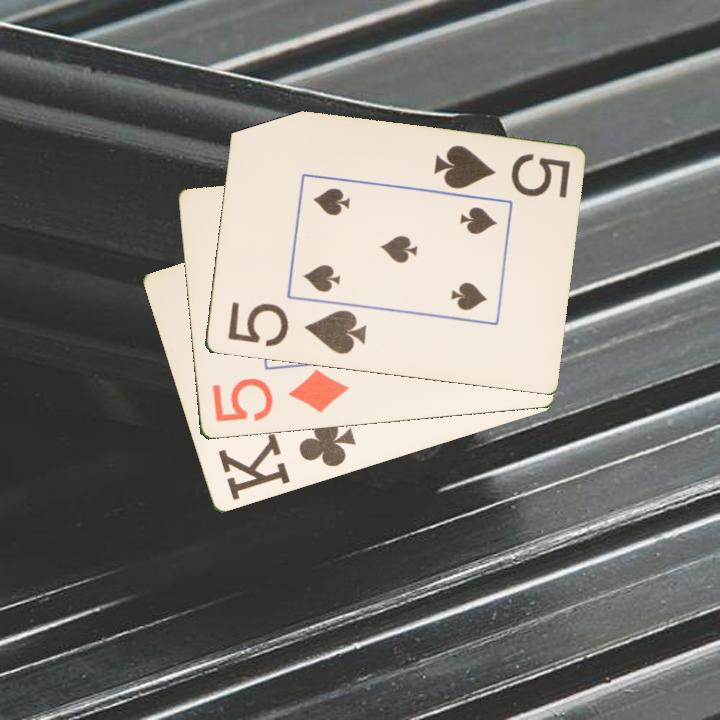5d: (208, 366, 352, 425)
5s: (429, 142, 573, 202), (224, 299, 369, 358)
Kc: (214, 415, 359, 504)
